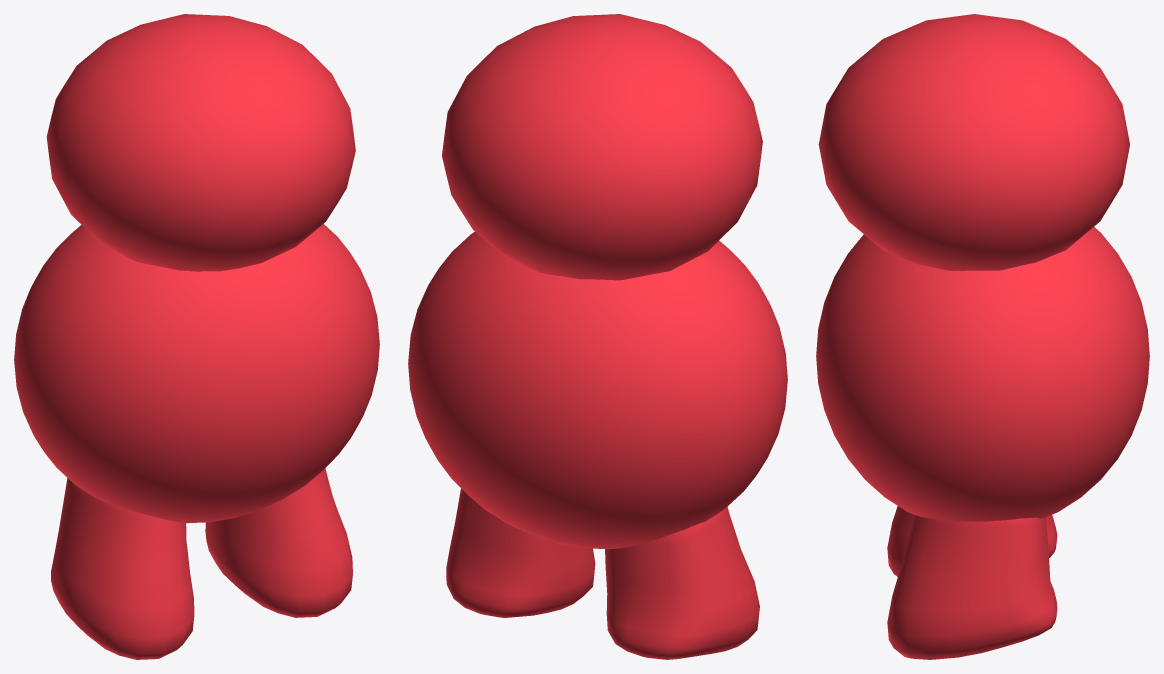
The model's file is kitty.fbx.
3 views of the same model, side by side, from view 1: azimuth 30°, elevation 25°; view 2: azimuth 150°, elevation 25°; view 3: azimuth 270°, elevation 25° (orthographic). The views are drawn at different scales.
Parts seen in each view (by area): view 1: kitty.body, kitty.head, kitty.leg.R, kitty.leg.L; view 2: kitty.body, kitty.head, kitty.leg.R, kitty.leg.L; view 3: kitty.body, kitty.head, kitty.leg.L, kitty.leg.R.
Boxes of the visible parts, x1,y1,x2,y2 form: kitty.body: (14,224,379,523); kitty.head: (46,14,355,271); kitty.leg.R: (51,478,194,659); kitty.leg.L: (205,468,352,617); kitty.body: (408,232,787,549); kitty.head: (442,14,762,280); kitty.leg.R: (605,507,759,659); kitty.leg.L: (446,488,595,617); kitty.body: (816,227,1149,521); kitty.head: (818,14,1129,270); kitty.leg.L: (887,514,1057,659); kitty.leg.R: (887,506,1057,576).
Bounding box in the file's own units: 21.03 × 36.01 × 18.64.
